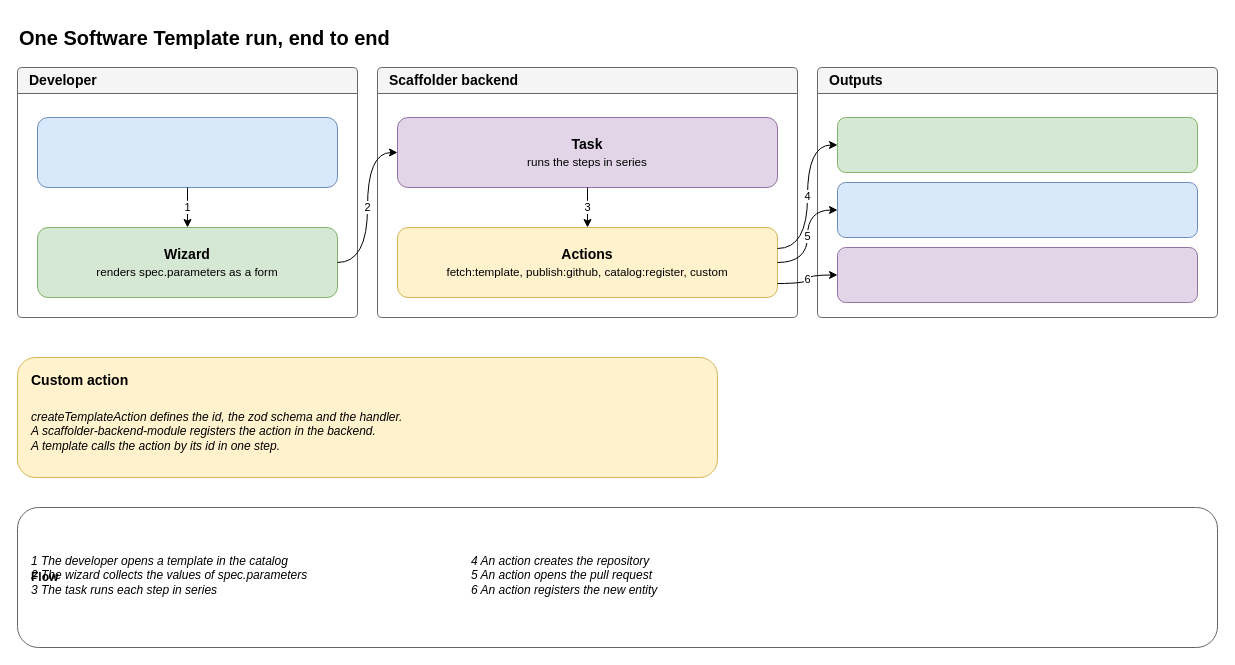
Some shapes in this 1235 by 665 pixel diagram are drawn without their labels. Each missing label, with the centre of its shape:
"Catalog entity catalog:register adds it" belongs at [1017,274].
"New repository publish:github creates it" belongs at [1017,144].
"Pull request publish:github:pull-request opens it" belongs at [1017,210].
"Template entity apiVersion scaffolder.backstage.io/v1beta3" belongs at [187,152].
